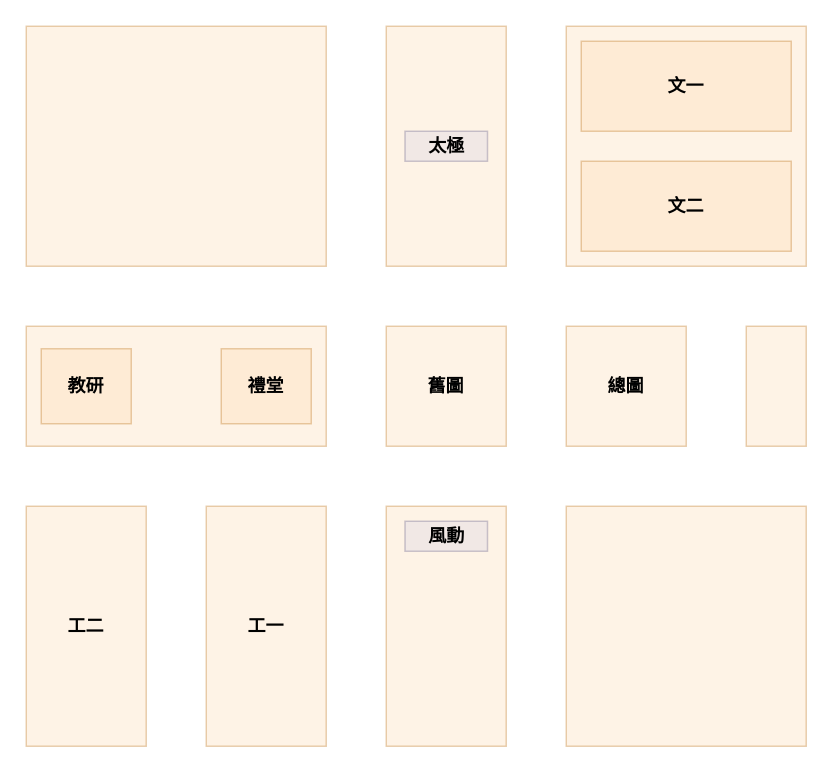
This 833x773 diagram has some shape labels left out. The shapes that lost their labels are listed below. From the top down, each one's box as (x1, y1, x2, y2) in pixels, then its label:
(25, 25, 326, 266): 壘球場
(745, 325, 806, 446): 行政
(565, 505, 806, 746): 科一
